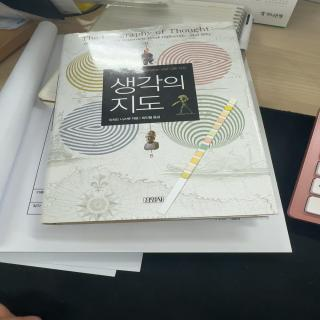mark: (181, 172, 189, 178), (191, 158, 199, 164), (195, 151, 203, 157), (200, 144, 208, 150), (186, 166, 193, 172), (205, 137, 212, 143), (213, 124, 220, 130), (221, 111, 228, 117), (209, 131, 216, 136), (217, 118, 224, 123), (225, 106, 231, 111), (230, 99, 235, 104)
